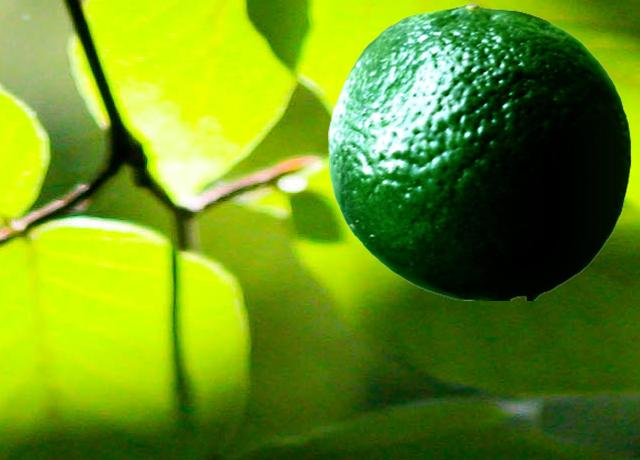calamansi: (328, 2, 630, 299)
